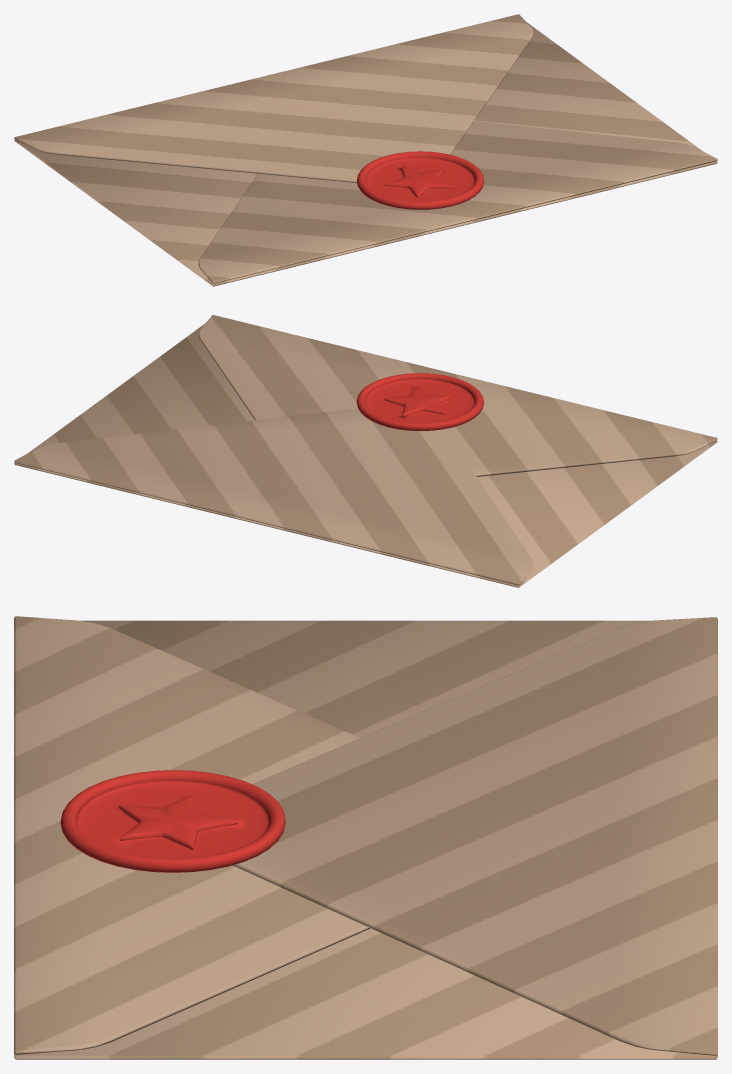
Rendered from envelope.fbx.
The picture shows the model from 3 angles, top to bottom: view 1: azimuth 30°, elevation 25°; view 2: azimuth 150°, elevation 25°; view 3: azimuth 270°, elevation 25°; orthographic projection. The views are drawn at different scales.
Visible parts, largest first — view 1: Envelope; view 2: Envelope; view 3: Envelope.
Boxes of the visible parts, x1,y1,x2,y2 form: Envelope: [14, 14, 717, 286]; Envelope: [14, 315, 717, 587]; Envelope: [14, 616, 717, 1059].
Size of the model in its own units: 0.2438 by 0.00719 by 0.1662.
Materials: 2 (1 with a texture image).
